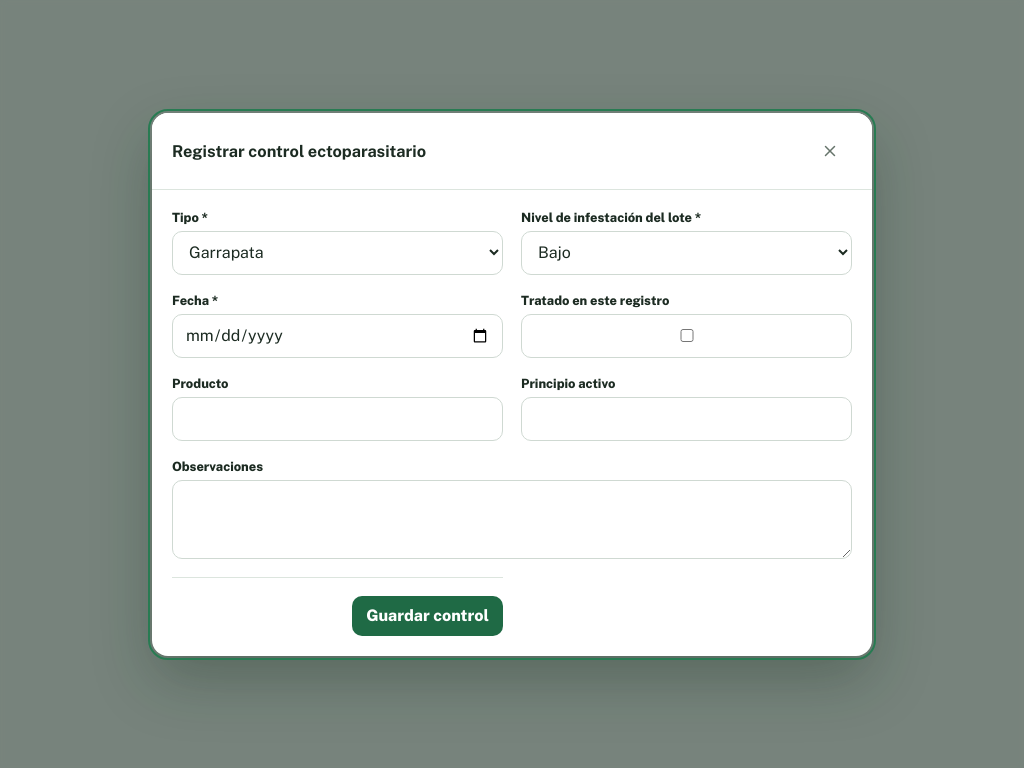
Test case: ControlEctoparasitarioModal — advertencia de rotación › muestra la advertencia cuando el principio activo coincide con uno de los últimos usados
Type "Cipermetrina" into the field labelled "Principio activo" at [686, 418], box x1=522 y1=399 x2=851 y2=438
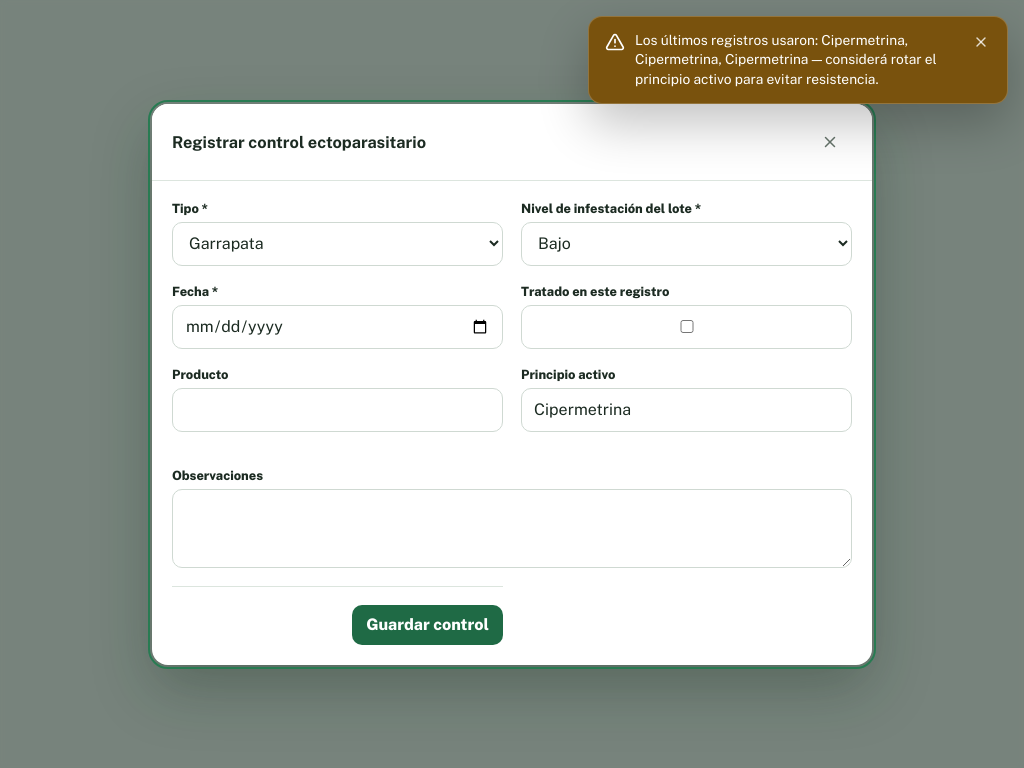
Expected: the text "considerá rotar el principio activo" is shown, x1=635 y1=51 x2=937 y2=87
Expected: the text "Cipermetrina, Cipermetrina, Cipermetrina" is shown, x1=635 y1=32 x2=908 y2=67
